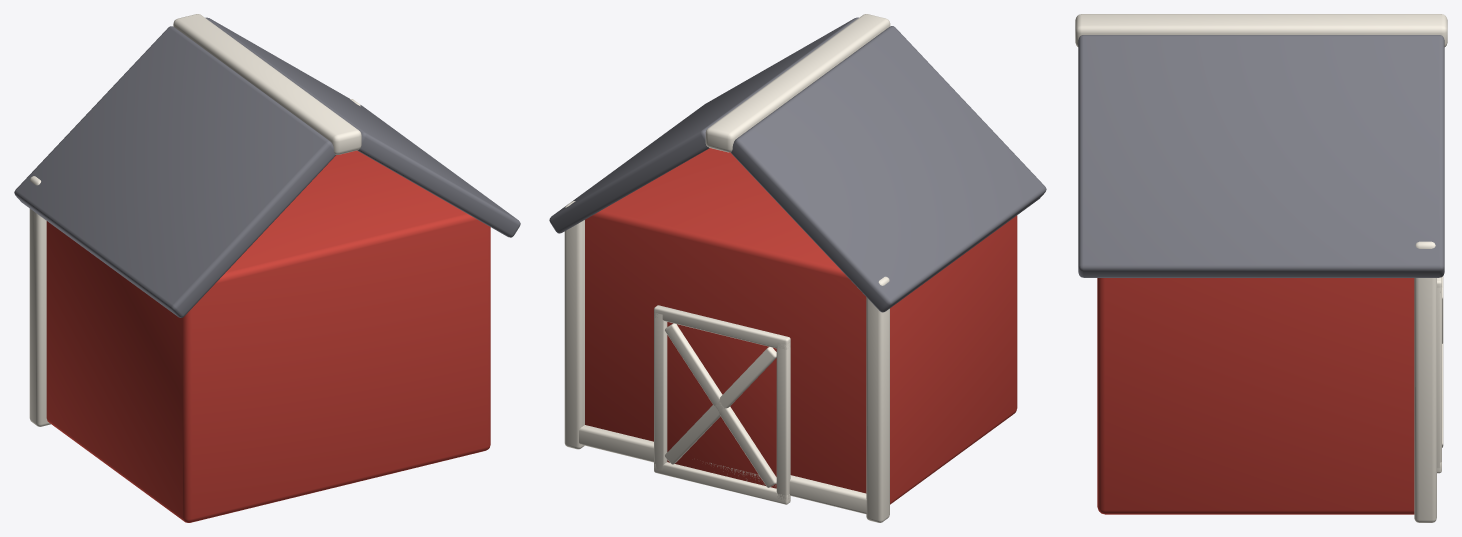
File: Barn.fbx
The picture shows the model from 3 angles, left to right: view 1: azimuth 30°, elevation 25°; view 2: azimuth 150°, elevation 25°; view 3: azimuth 270°, elevation 25°; orthographic projection. The views are drawn at different scales.
Visible parts, largest first — view 1: Barn; view 2: Barn; view 3: Barn.
Boxes of the visible parts, left/top/right/bottom form: Barn: left=14, top=14, right=520, bottom=522; Barn: left=549, top=14, right=1046, bottom=522; Barn: left=1075, top=14, right=1447, bottom=522.
Bounding box in the file's own units: 3.63 × 3.64 × 2.95.
Materials: 1 (1 with a texture image).
